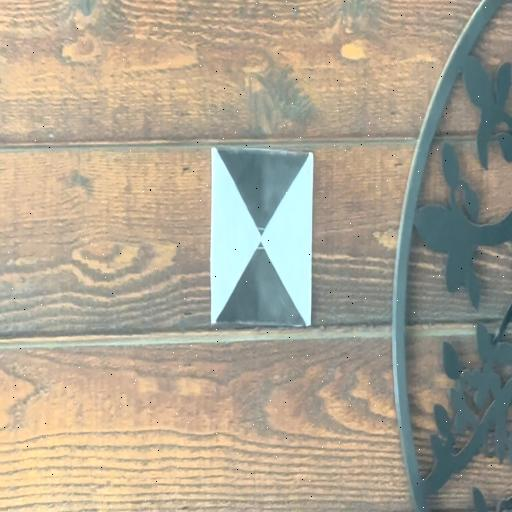target: (211, 148, 312, 327)
